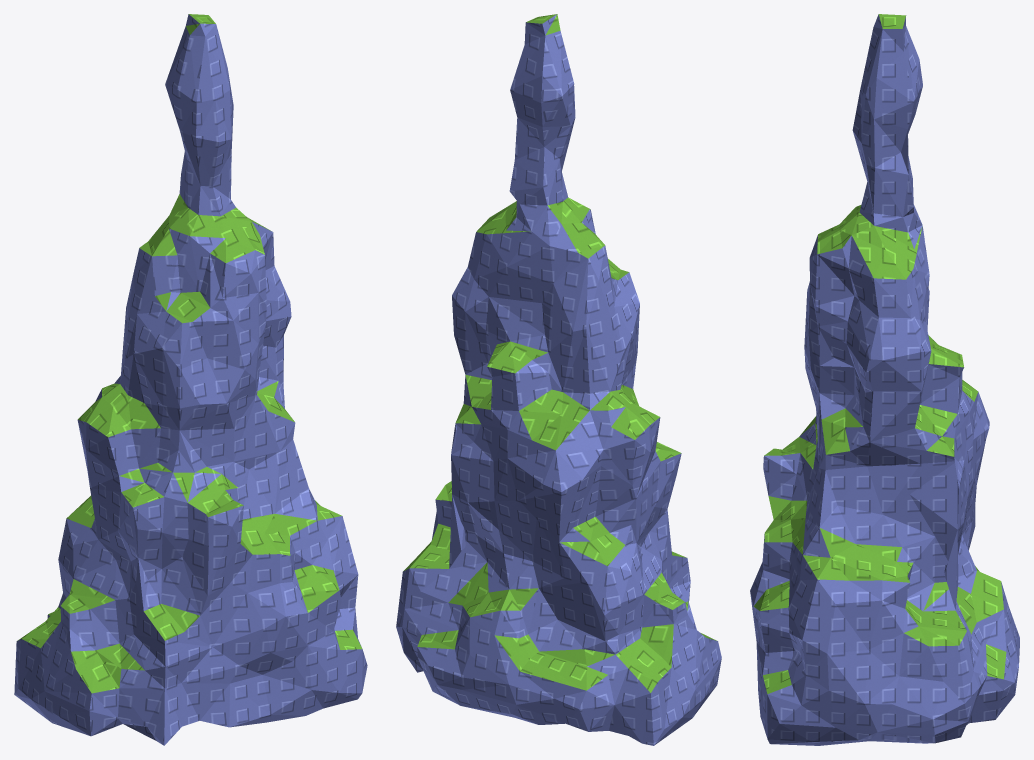
File: CliffCrag.glb
3 views of the same model, side by side, from view 1: azimuth 30°, elevation 25°; view 2: azimuth 150°, elevation 25°; view 3: azimuth 270°, elevation 25° (orthographic). The views are drawn at different scales.
Visible parts, largest first — view 1: CliffCrag_Rock, CliffCrag_Top; view 2: CliffCrag_Rock, CliffCrag_Top; view 3: CliffCrag_Rock, CliffCrag_Top.
Boxes of the visible parts, x1,y1,x2,y2 form: CliffCrag_Rock: [14, 14, 367, 745]; CliffCrag_Top: [17, 14, 362, 693]; CliffCrag_Rock: [396, 14, 721, 745]; CliffCrag_Top: [403, 14, 716, 692]; CliffCrag_Rock: [750, 14, 1019, 745]; CliffCrag_Top: [753, 14, 1006, 693].
Bounding box in the file's own units: 13.06 × 29.86 × 10.64.
Materials: 2 (2 with a texture image).
